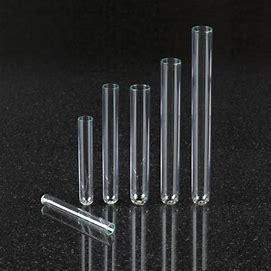Test tube: (187, 23, 211, 203), (96, 83, 124, 204), (131, 75, 150, 205)
